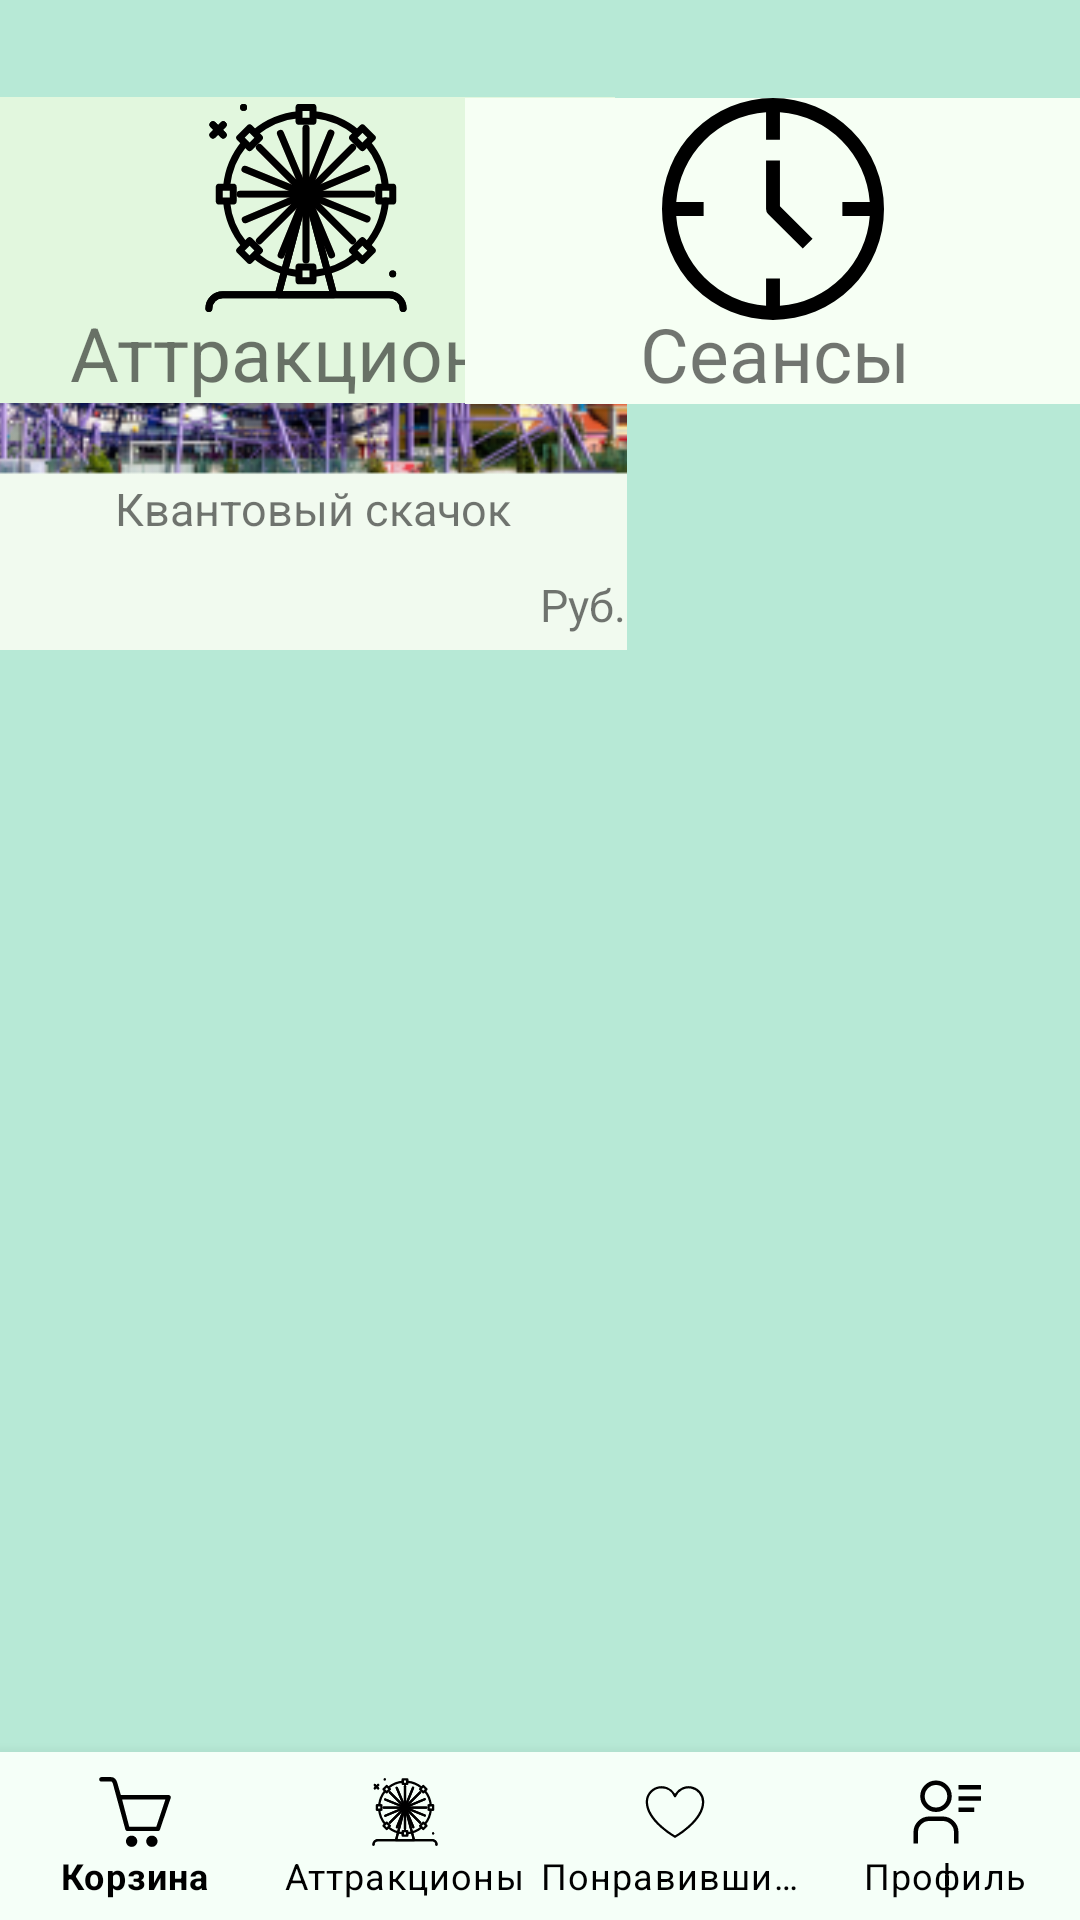

Locate icon controls on the screen. Image size 1080 × 1920, boxes as (x1, y1, x2, y2).
eye wheel: (205, 104, 407, 312)
time: (662, 98, 884, 320)
